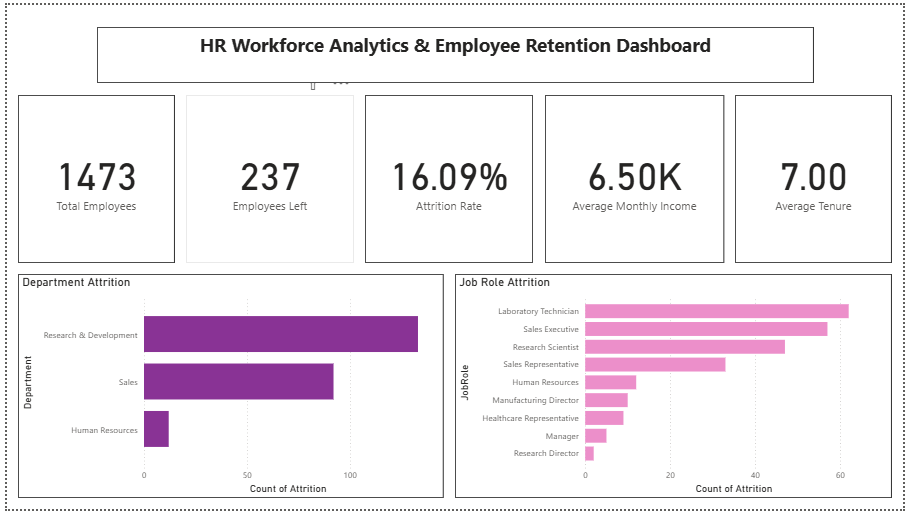

The dashboard page shown, as its layout file describes it:
{"tool":"powerbi","page":{"name":"Executive Summary","canvas":[1280,720],"ordinal":0},"visuals":[{"type":"card","fields":{"Values":["HR_Analytics_Cleaned.Total Employees"]},"box":[0,96,256,288],"z":0},{"type":"card","fields":{"Values":["HR_Analytics_Cleaned.Employees Left"]},"box":[256,96,256,288],"z":1000},{"type":"card","fields":{"Values":["HR_Analytics_Cleaned.Attrition Rate"]},"box":[512,96,256,272],"z":2000},{"type":"card","fields":{"Values":["HR_Analytics_Cleaned.Average Monthly Income"]},"box":[784,96,256,272],"z":3000},{"type":"card","fields":{"Values":["HR_Analytics_Cleaned.Average Tenure"]},"box":[1040,96,240,288],"z":4000},{"type":"clusteredBarChart","title":"Department Attrition","fields":{"Category":["HR_Analytics_Cleaned.Department"],"Y":["CountNonNull(HR_Analytics_Cleaned.Attrition)"]},"box":[0,384,640,336],"z":5000},{"type":"clusteredBarChart","title":"Job Role Attrition","fields":{"Category":["HR_Analytics_Cleaned.JobRole"],"Y":["CountNonNull(HR_Analytics_Cleaned.Attrition)"]},"box":[640,384,640,336],"z":6000},{"type":"textbox","box":[128,32,1024,80],"z":7000}]}

Visuals, with their boxes in screenshot pixels (x1, y1, x2, y2), scaled from the page's 1280x720 canvas onto the 907x515 screenshot:
card - HR_Analytics_Cleaned.Total Employees: bbox=(0, 69, 181, 275)
card - HR_Analytics_Cleaned.Employees Left: bbox=(181, 69, 363, 275)
card - HR_Analytics_Cleaned.Attrition Rate: bbox=(363, 69, 544, 263)
card - HR_Analytics_Cleaned.Average Monthly Income: bbox=(556, 69, 737, 263)
card - HR_Analytics_Cleaned.Average Tenure: bbox=(737, 69, 906, 275)
"Department Attrition" clusteredBarChart: bbox=(0, 275, 454, 514)
"Job Role Attrition" clusteredBarChart: bbox=(454, 275, 906, 514)
textbox: bbox=(91, 23, 816, 80)
